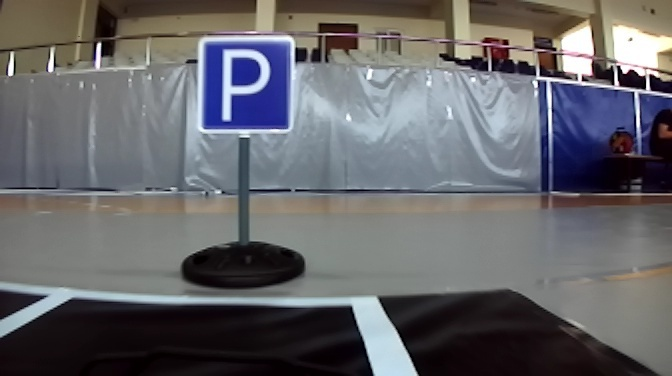park: (198, 37, 294, 135)
